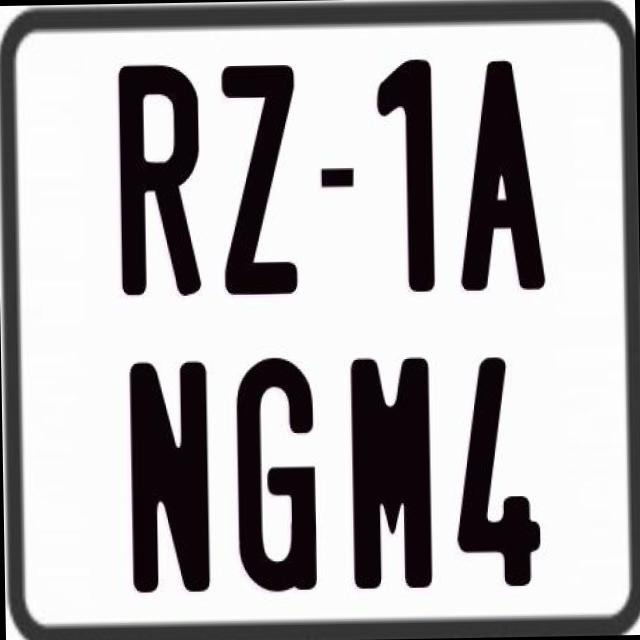1: (372, 56, 436, 292)
4: (451, 356, 538, 596)
A: (452, 60, 548, 294)
G: (235, 354, 322, 596)
M: (347, 354, 429, 586)
N: (125, 360, 212, 592)
R: (114, 65, 202, 303)
Z: (218, 60, 296, 292)
